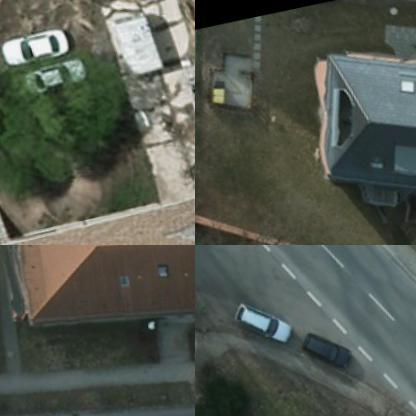car: (228, 292, 294, 350), (0, 20, 73, 68), (296, 321, 355, 372), (22, 55, 91, 97)
